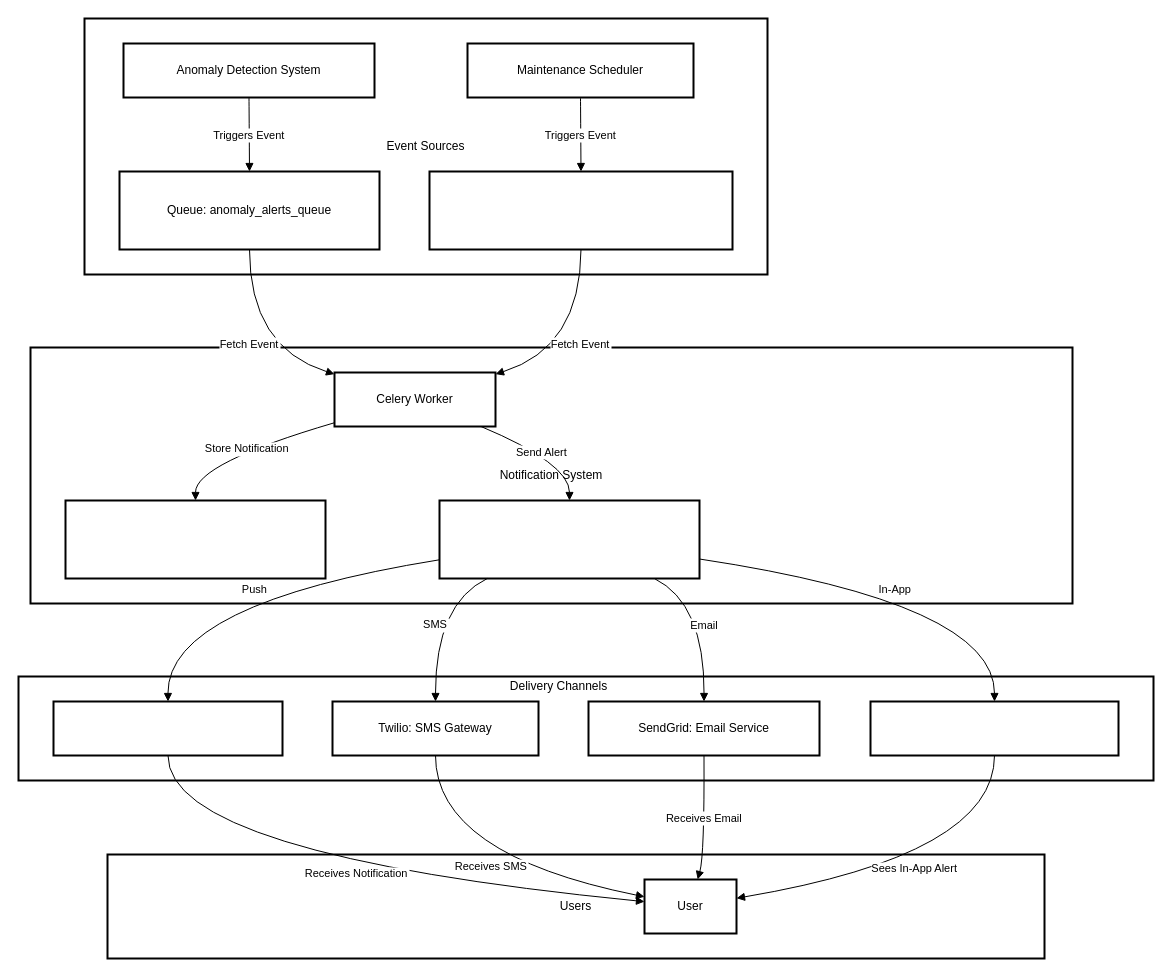
Some shapes in this 1171 by 976 pixel diagram are drawn without their labels. The shapes that lost their labels are listed below. From the top down, each one's centre as x and y in pixels, then its label:
At point (580, 210): "Queue: maintenance_notifications_queue".
At point (195, 539): "PostgreSQL: Notifications Database".
At point (569, 539): "Notification Delivery System".
At point (167, 728): "FCM: Push Notifications".
At point (994, 728): "WebSockets: In-App Alerts".
